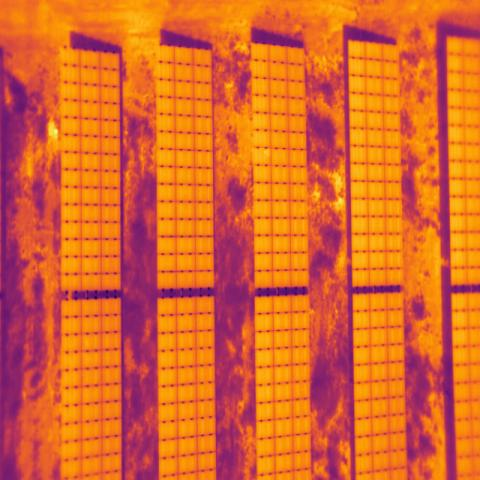fault: (251, 147, 272, 167)
